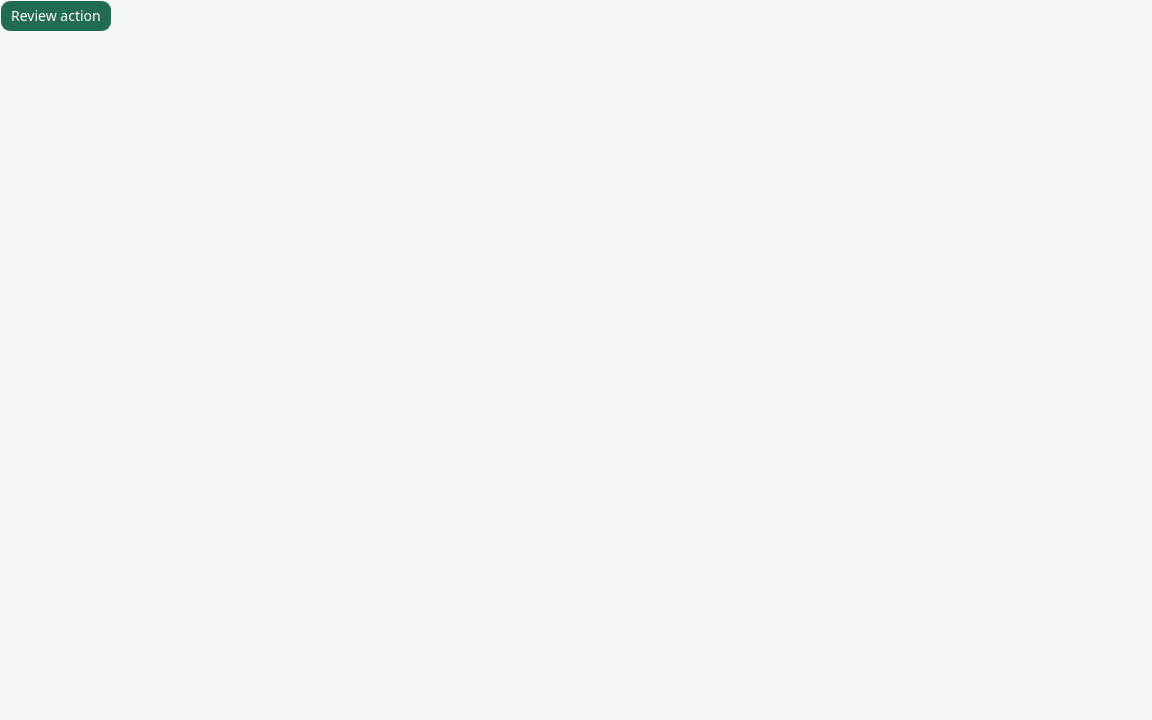
blocks cancel, Escape, and outside dismissal while loading, then restores normal dismissal
This screenshot has width=1152, height=720.
Later steps or results of the test are not shown.
Click the button "Review action" at [56, 16], box [0,0,112,32]
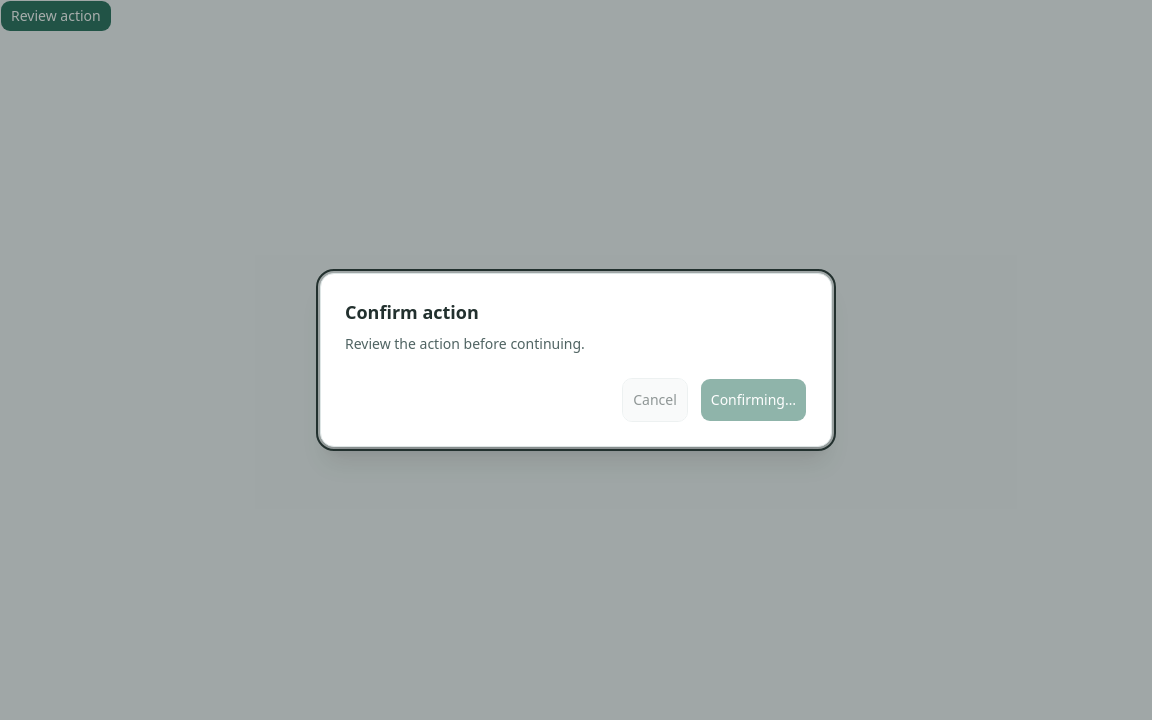
Expected: the button "Cancel" is disabled, [622,378,688,422]
